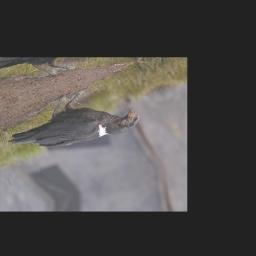Crow: (0, 74, 144, 169)
